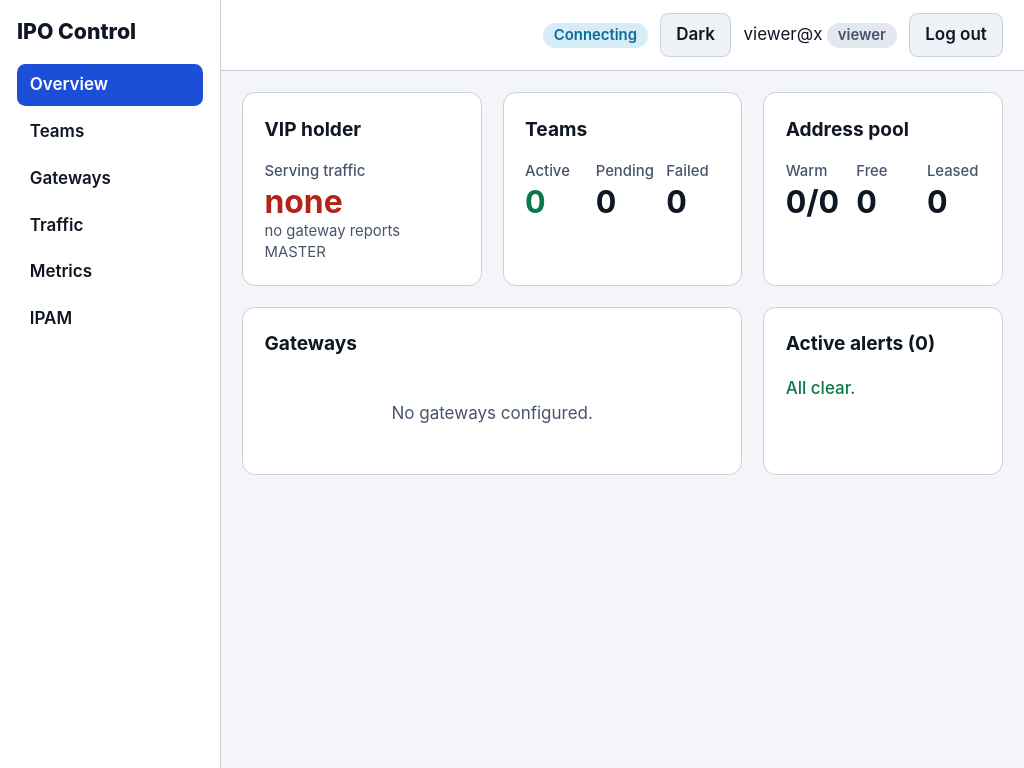
logging out returns to the login form
This screenshot has width=1024, height=768.
Click the button "Log out": [956, 35] box x1=909 y1=13 x2=1003 y2=57
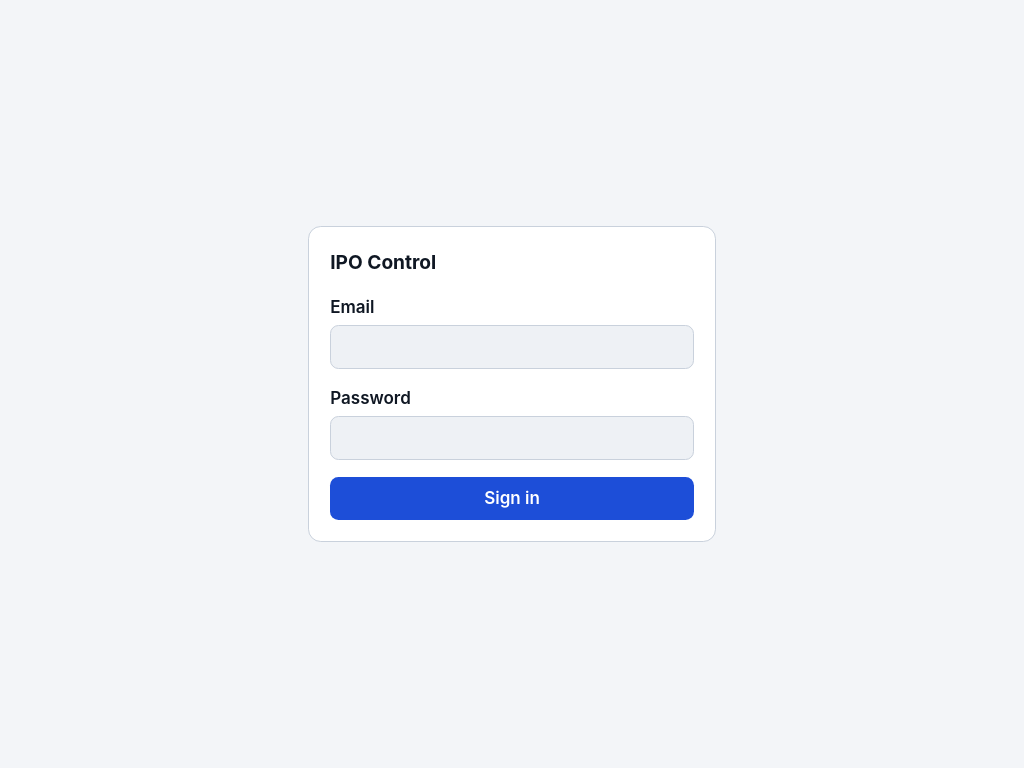
Expected: the button "Sign in" is shown, x1=330 y1=477 x2=694 y2=520
